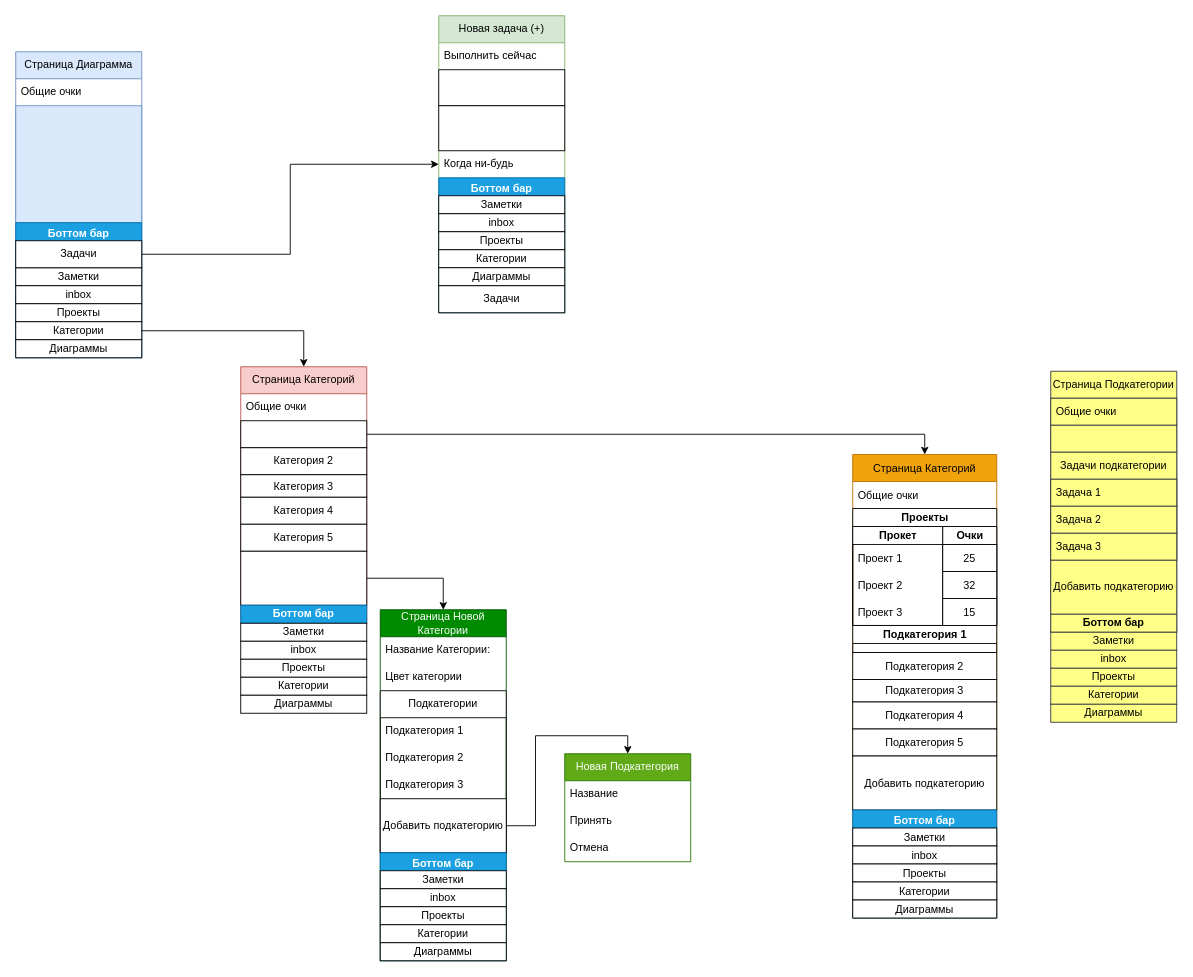
This 1193x977 diagram has some shape labels left out. Each missing label, with the centre of its shape:
"Выполнить потом/ отложенные" goes at pixel 501 128.
"ДИАГРАММА" goes at pixel 78 164.
"Категория 1" goes at pixel 303 434.
"Поручения/Контроль" goes at pixel 501 87.
"Создать новую Категорию" goes at pixel 303 577.
